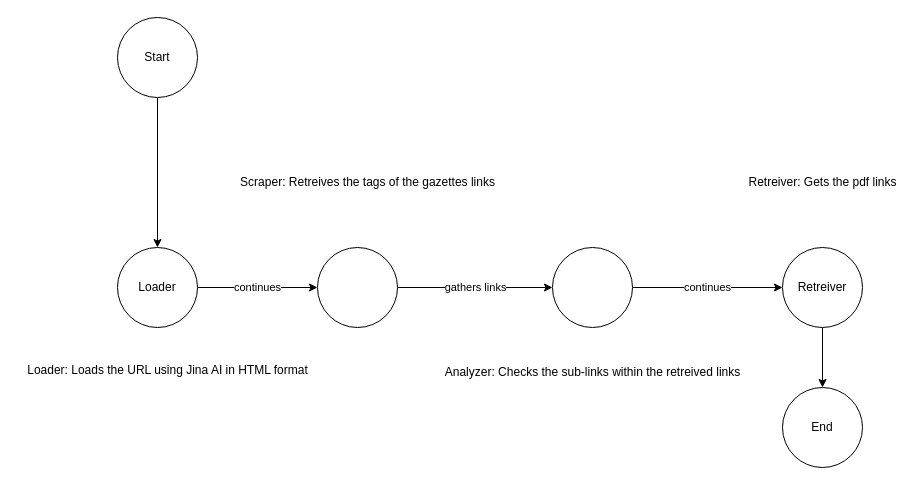
Some shapes in this 924 by 485 pixel diagram are drawn without their labels. Each missing label, with the box of its shape:
Analyzer: (552, 246, 632, 328)
Scraper: (316, 246, 398, 328)
